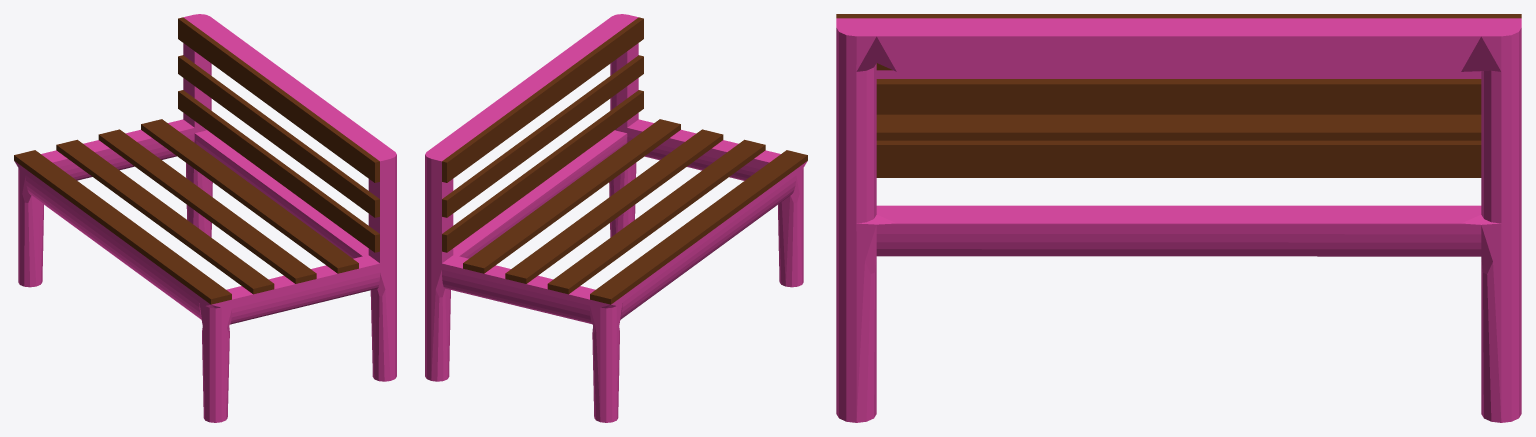
The model's file is bancoblend.fbx.
3 renders of one model, left to right at view 1: azimuth 30°, elevation 25°; view 2: azimuth 150°, elevation 25°; view 3: azimuth 270°, elevation 25°, orthographic. The views are drawn at different scales.
Visible parts, largest first — view 1: Cube; view 2: Cube; view 3: Cube.
Boxes of the visible parts, <box> form: Cube: <box>14,14,396,422</box>; Cube: <box>425,14,807,422</box>; Cube: <box>836,14,1521,422</box>.
Size of the model in its own units: 546 by 609 by 979.
